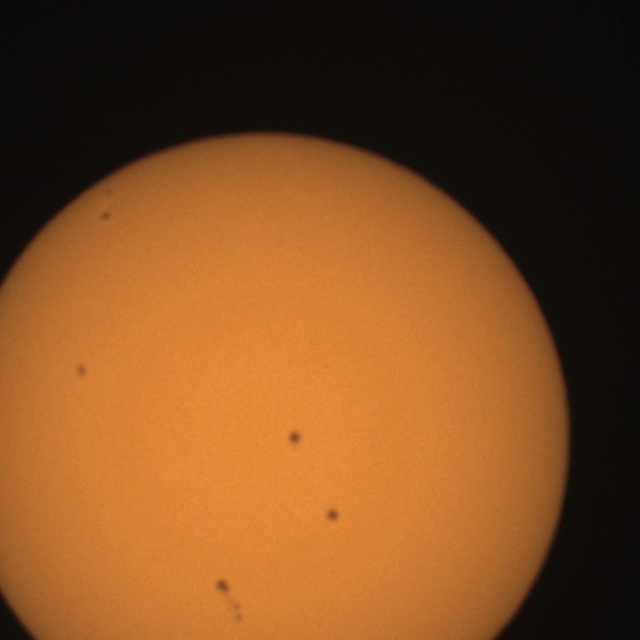sunspot: (213, 578, 244, 627), (213, 576, 233, 600), (230, 600, 245, 624), (286, 428, 304, 448), (324, 507, 341, 524), (74, 362, 88, 380), (98, 208, 112, 224)
